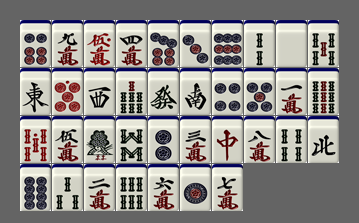0m: (84, 20, 115, 67)
0p: (52, 68, 83, 115)
0s: (20, 116, 51, 163)
1m: (276, 68, 307, 115)
1p: (180, 164, 211, 211)
1s: (84, 116, 115, 163)
1z: (20, 68, 51, 115)
2m: (84, 164, 115, 211)
2p: (148, 116, 179, 163)
2s: (244, 20, 275, 67)
2z: (180, 68, 211, 115)
3m: (180, 116, 211, 163)
3p: (180, 20, 211, 67)
3s: (52, 164, 83, 211)
3z: (84, 68, 115, 115)
4m: (116, 20, 147, 67)
4p: (212, 68, 243, 115)
4s: (276, 116, 307, 163)
4z: (308, 116, 339, 163)
5m: (52, 116, 83, 163)
5p: (244, 68, 275, 115)
5s: (308, 20, 339, 67)
5z: (276, 20, 307, 67)
6m: (148, 164, 179, 211)
6p: (20, 20, 51, 67)
6s: (116, 164, 147, 211)
6z: (148, 68, 179, 115)
7m: (212, 164, 243, 211)
7p: (148, 20, 179, 67)
7s: (116, 68, 147, 115)
7z: (212, 116, 243, 163)
8m: (244, 116, 275, 163)
8p: (20, 164, 51, 211)
8s: (116, 116, 147, 163)
9m: (52, 20, 83, 67)
9p: (212, 20, 243, 67)
9s: (308, 68, 339, 115)
